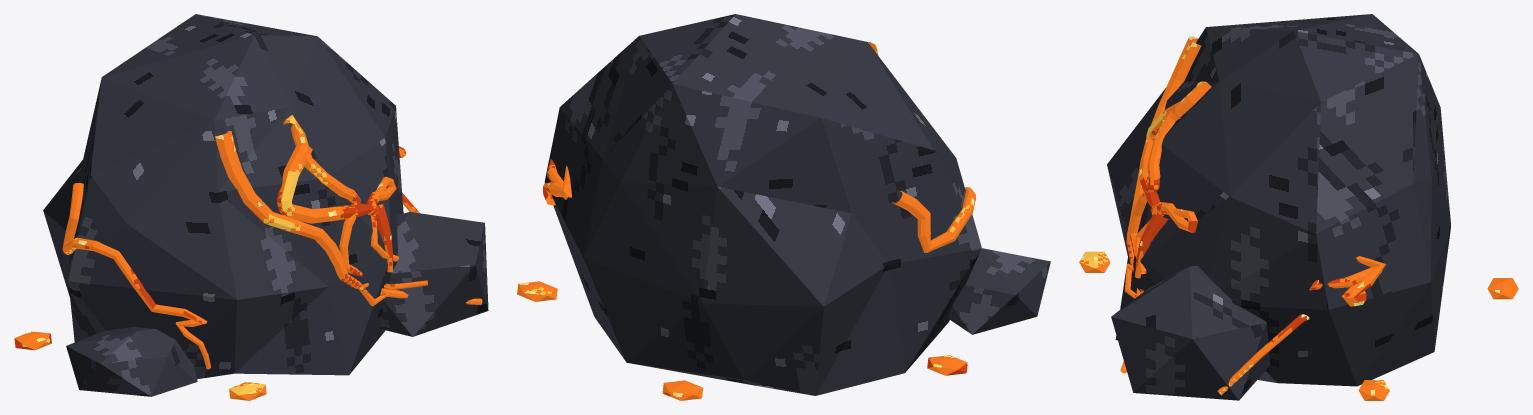
File: canela_lavarock.glb
3 views of the same model, side by side, from view 1: azimuth 30°, elevation 25°; view 2: azimuth 150°, elevation 25°; view 3: azimuth 270°, elevation 25° (orthographic). The views are drawn at different scales.
Visible parts, largest first — view 1: Rock, LavaGlow, EmberGlow; view 2: Rock, LavaGlow, EmberGlow; view 3: Rock, LavaGlow, EmberGlow.
Part boxes in pixels (x1,y1,x2,y2): Rock: [43, 14, 488, 396]; LavaGlow: [62, 115, 482, 369]; EmberGlow: [14, 331, 266, 400]; Rock: [544, 14, 1050, 395]; LavaGlow: [543, 42, 975, 252]; EmberGlow: [517, 281, 967, 400]; Rock: [1107, 14, 1450, 400]; LavaGlow: [1120, 36, 1385, 395]; EmberGlow: [1079, 251, 1518, 400].
Bounding box in the file's own units: 3.32 × 2.19 × 2.88.
2 materials, 2 textured.
